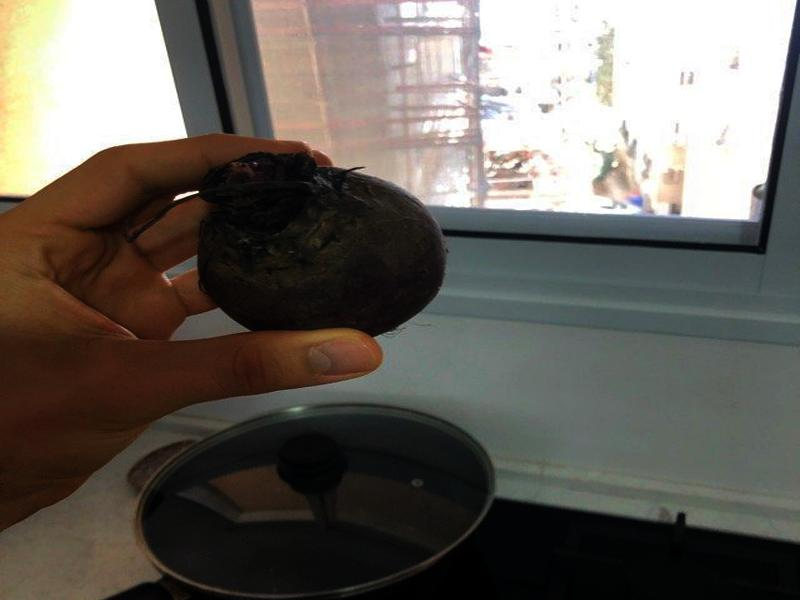Beet: (125, 151, 446, 338)
